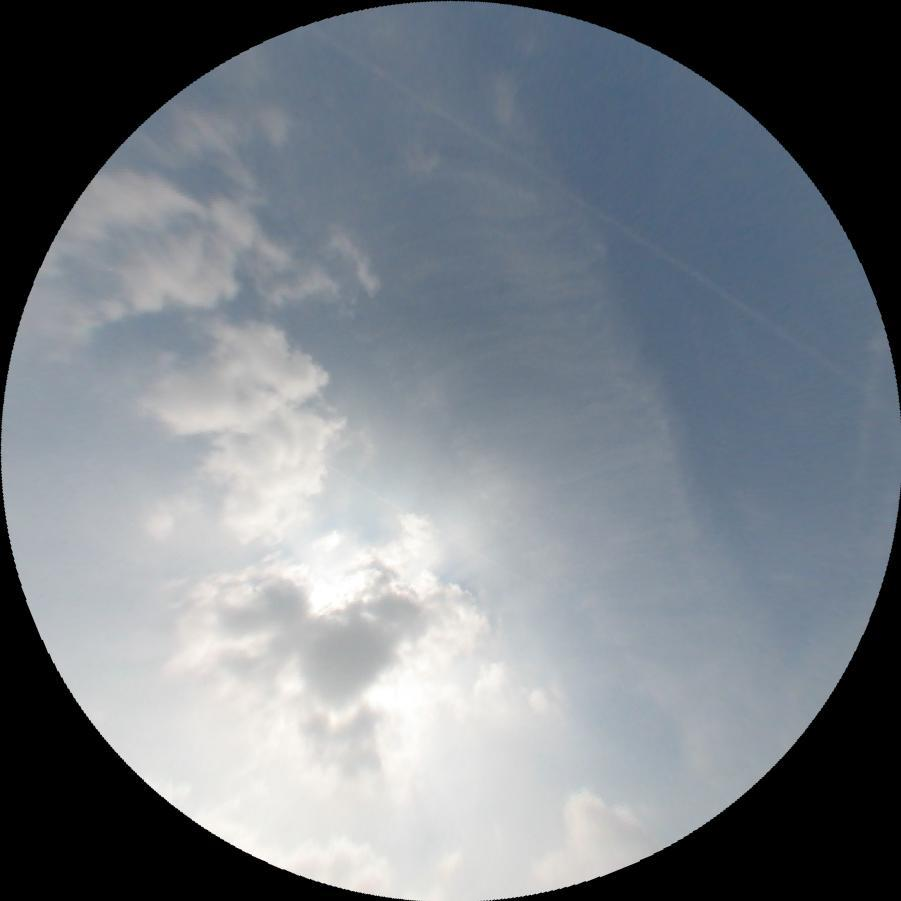contrail old: (304, 19, 901, 408)
contrail young: (324, 464, 551, 598)
sun: (281, 562, 433, 736)
